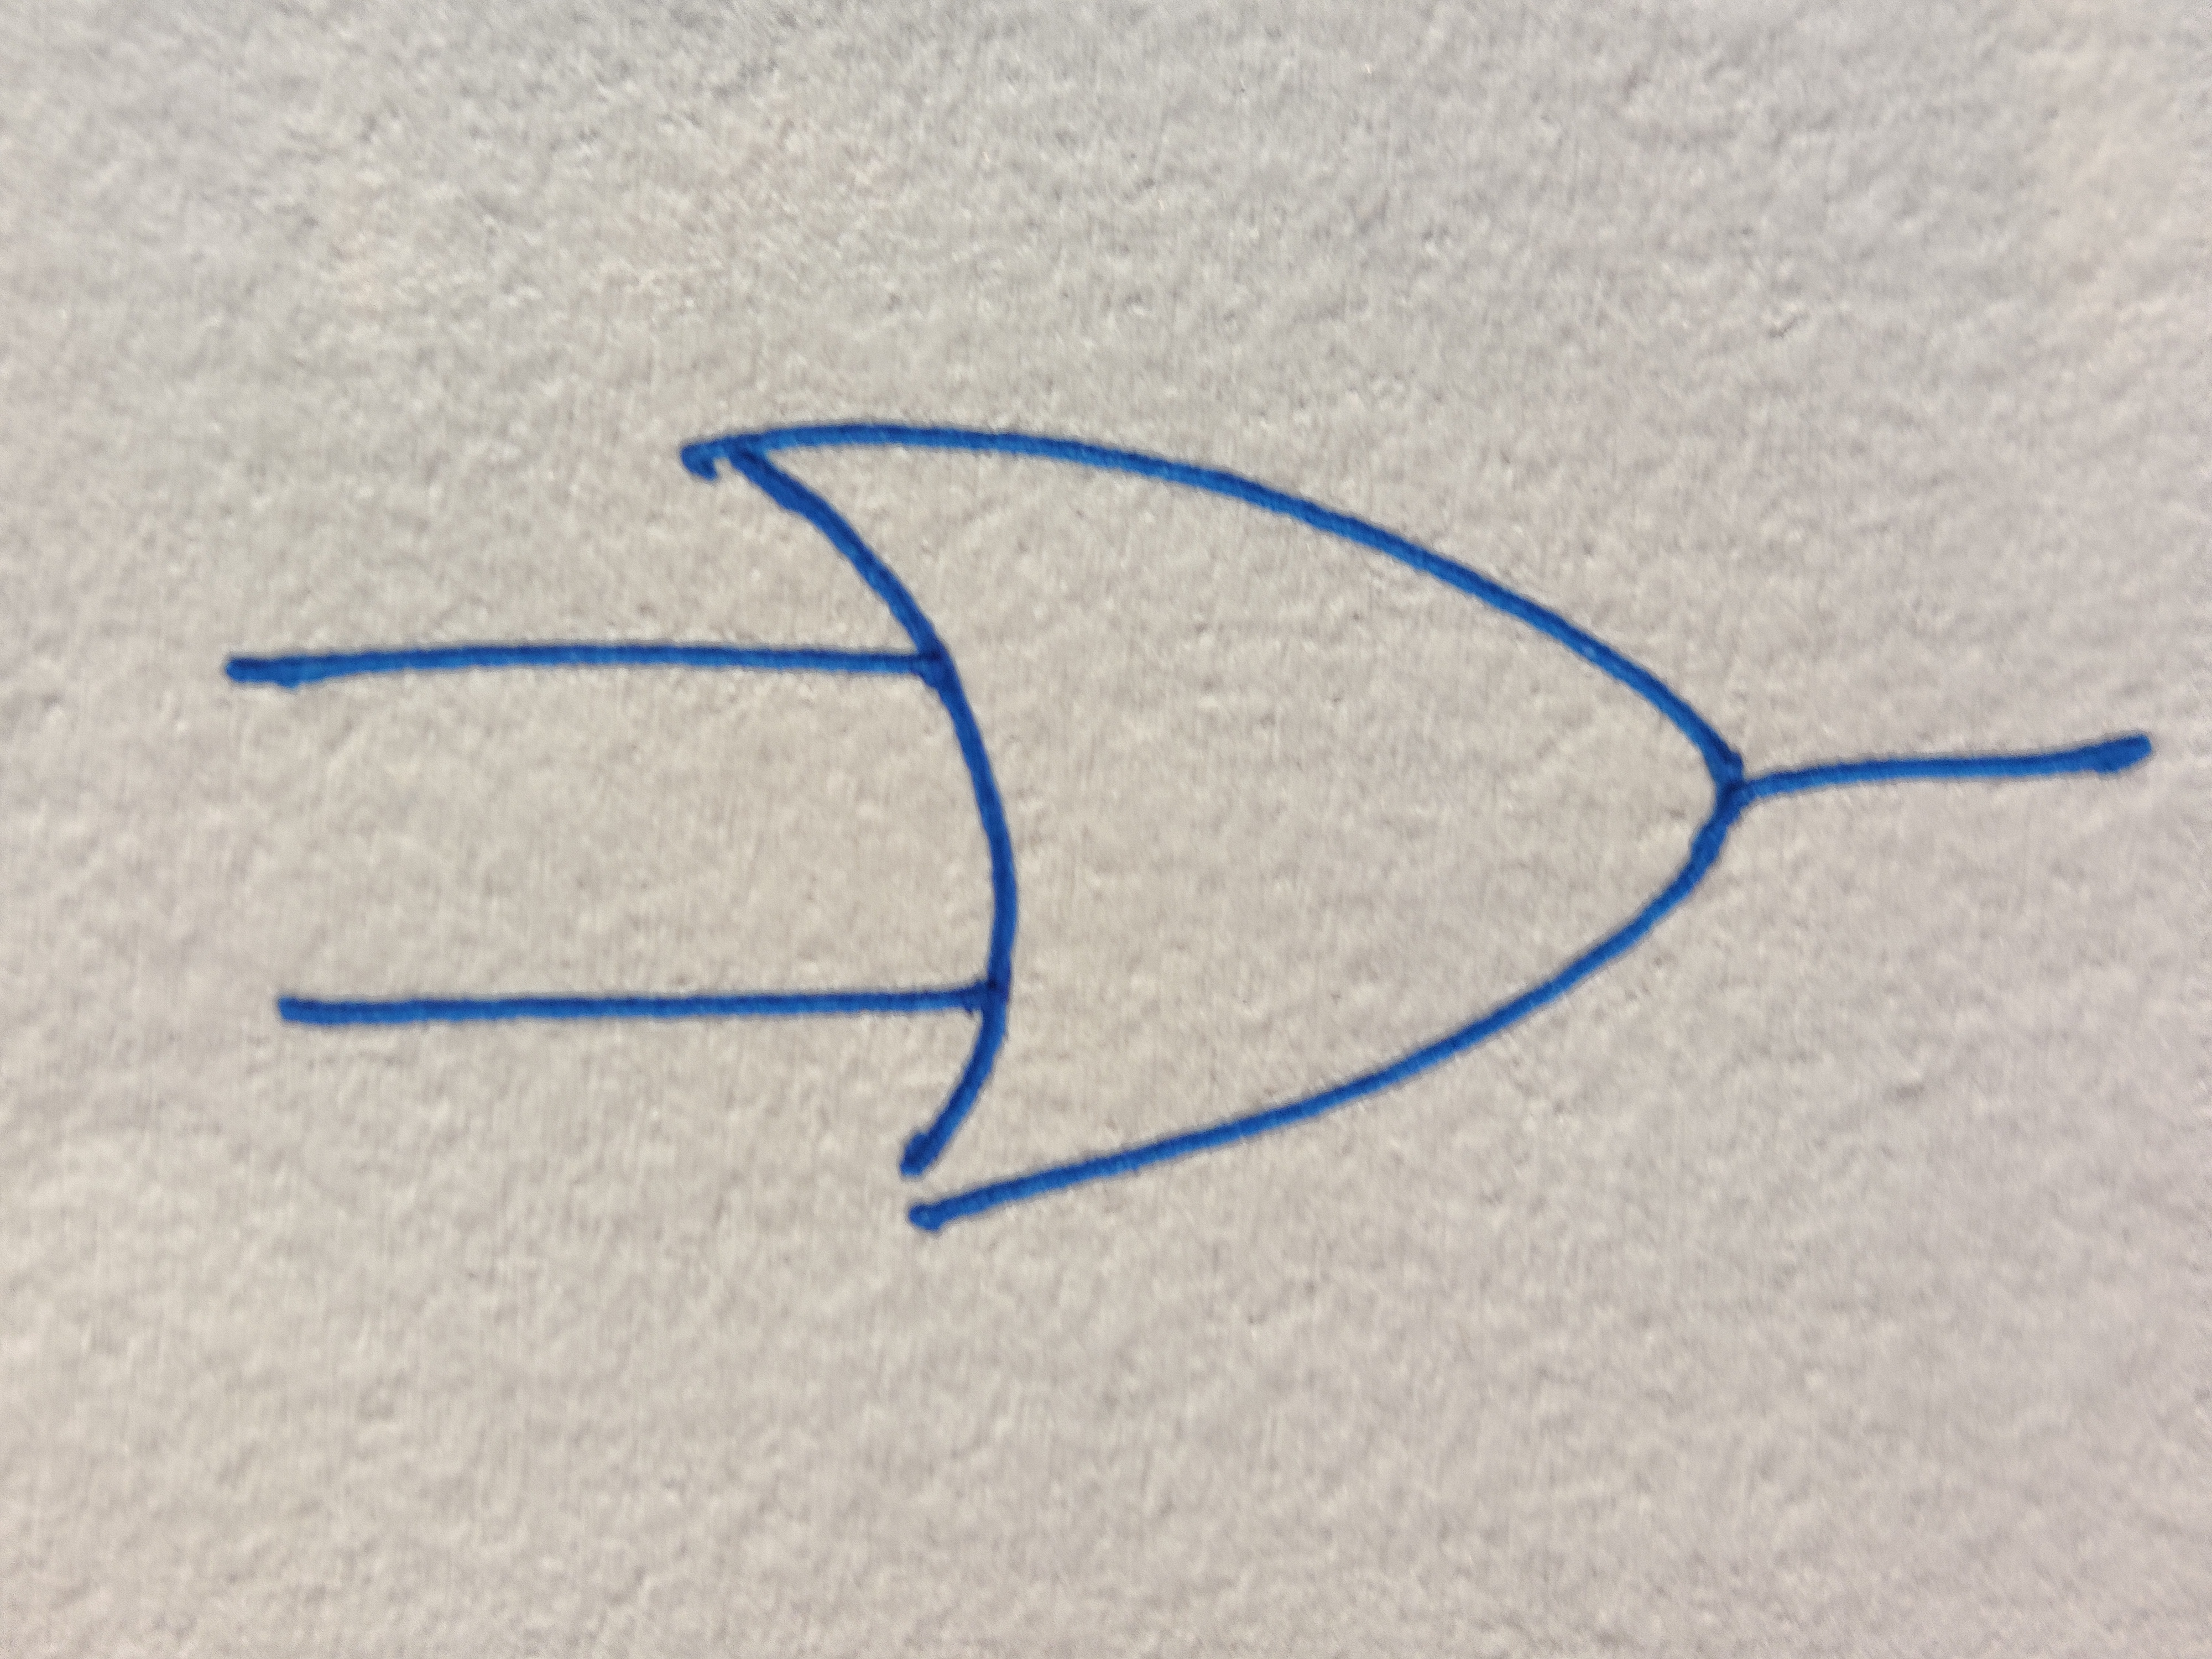or: (686, 427, 1743, 1227)
